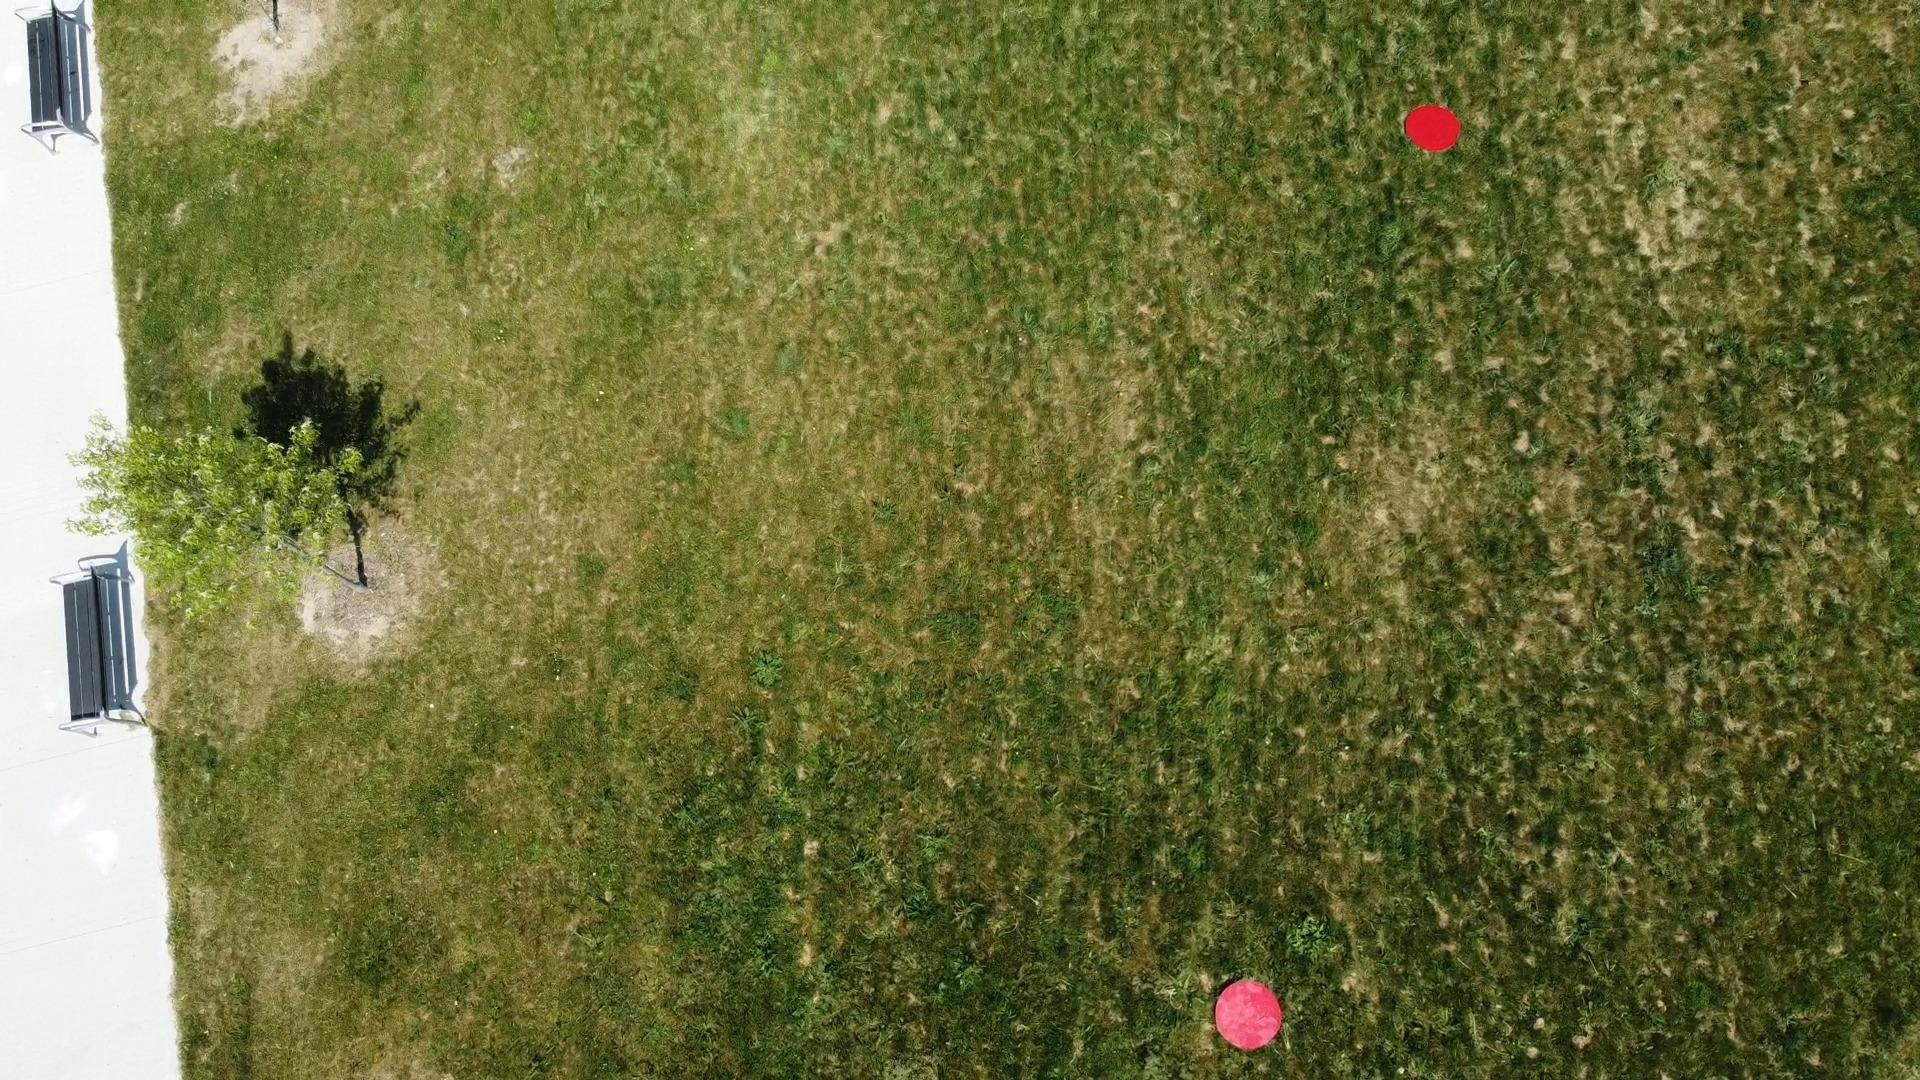Red: (1211, 976, 1288, 1054), (1402, 103, 1466, 156)
